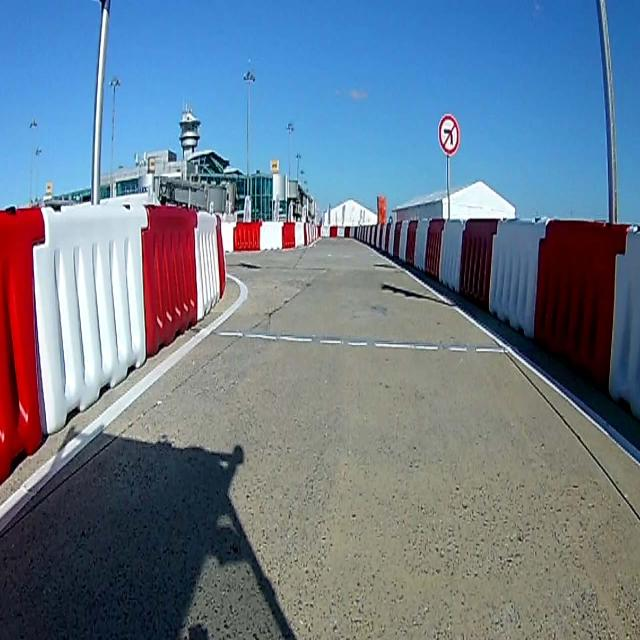soladonulmez: (438, 113, 460, 155)
